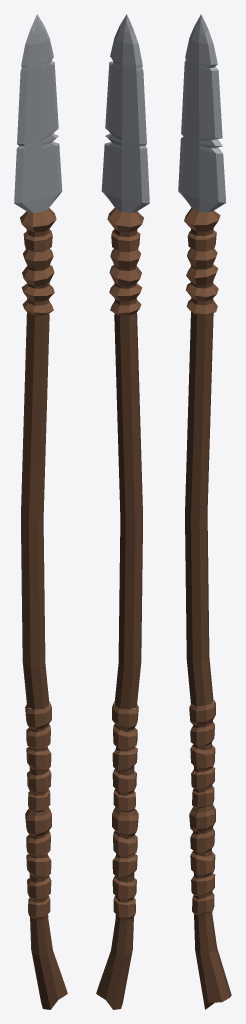
The model's file is Spear.gltf.
3 views of the same model, side by side, from view 1: azimuth 30°, elevation 25°; view 2: azimuth 150°, elevation 25°; view 3: azimuth 330°, elevation 25° (orthographic).
Visible parts, largest first — view 1: Spear; view 2: Spear; view 3: Spear.
Part boxes in pixels (box(x1,y1,x2,y2)): Spear: box(14, 14, 67, 1009); Spear: box(96, 14, 149, 1009); Spear: box(178, 14, 231, 1009).
Size of the model in its own units: 0.5301 by 9.72 by 0.3249.
